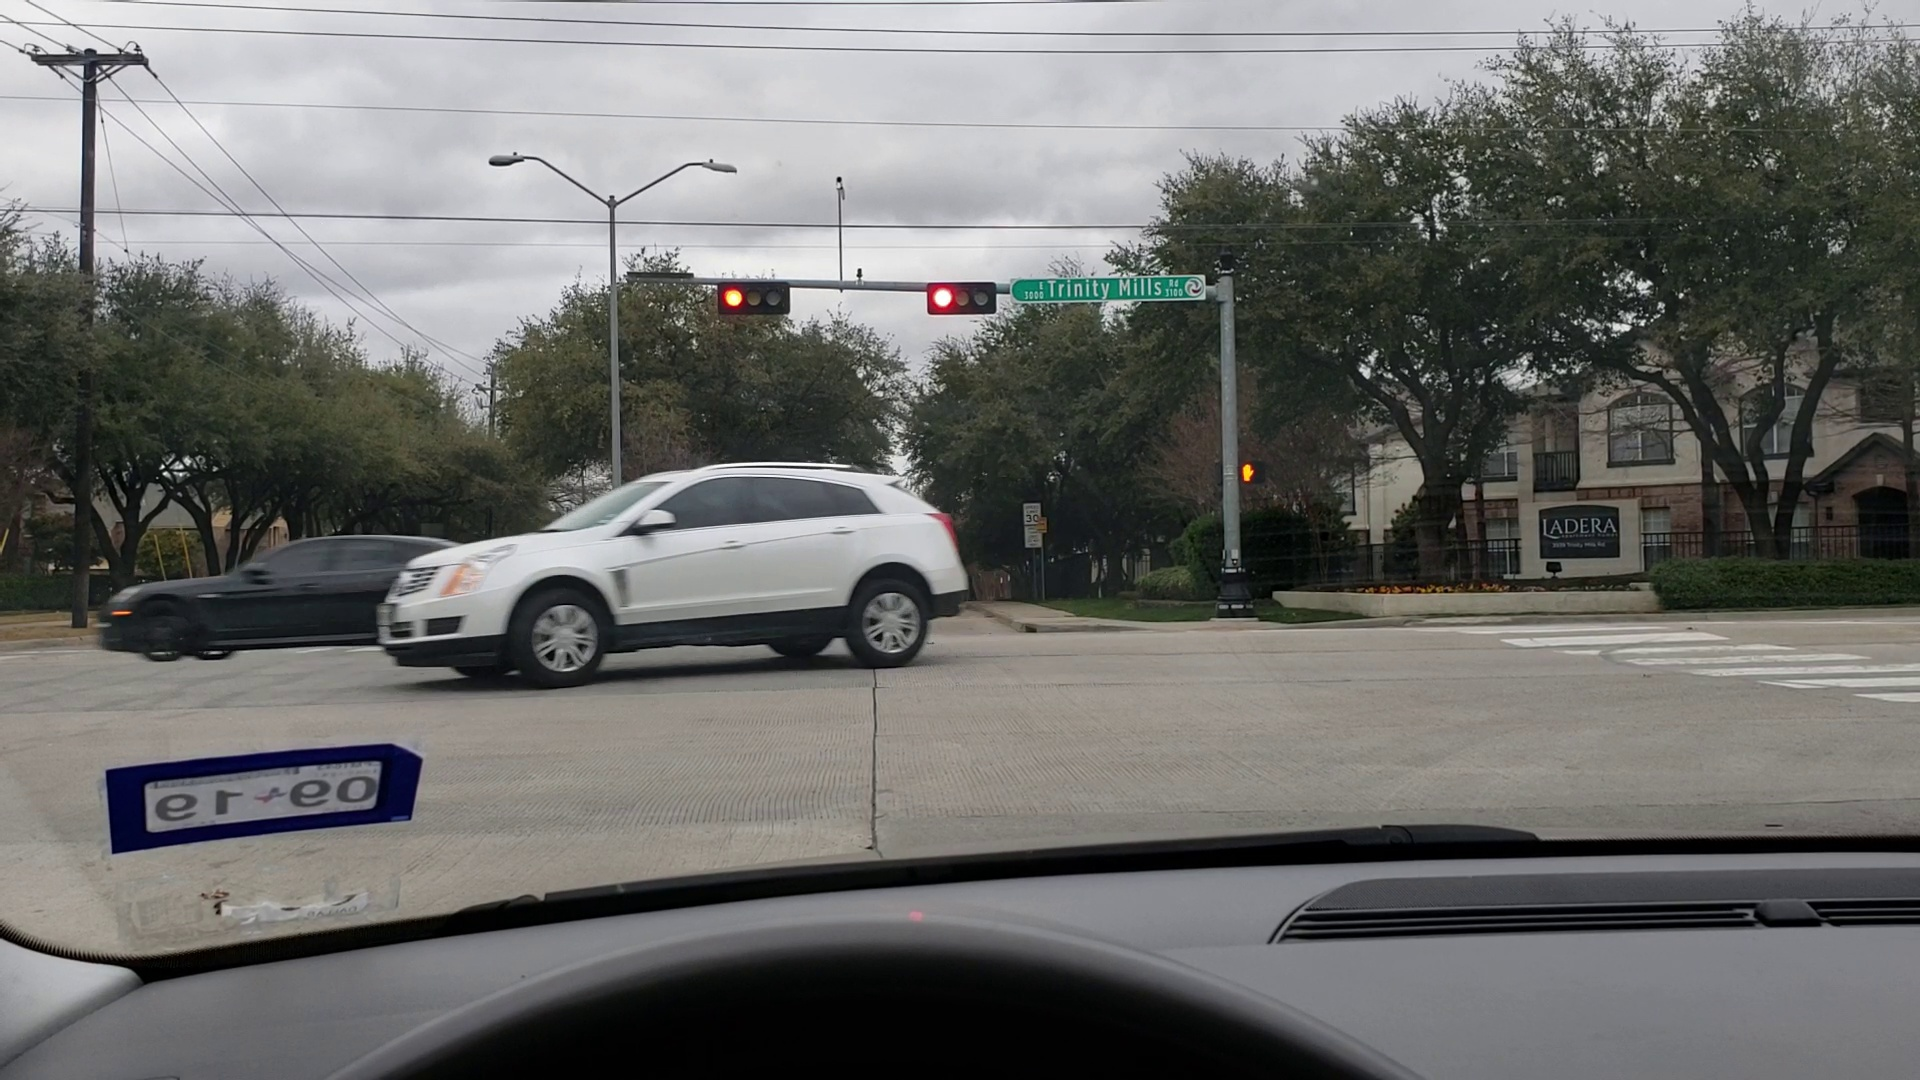car: (382, 450, 971, 673), (94, 525, 524, 671)
traffic light: (720, 277, 793, 313), (928, 280, 998, 313)
